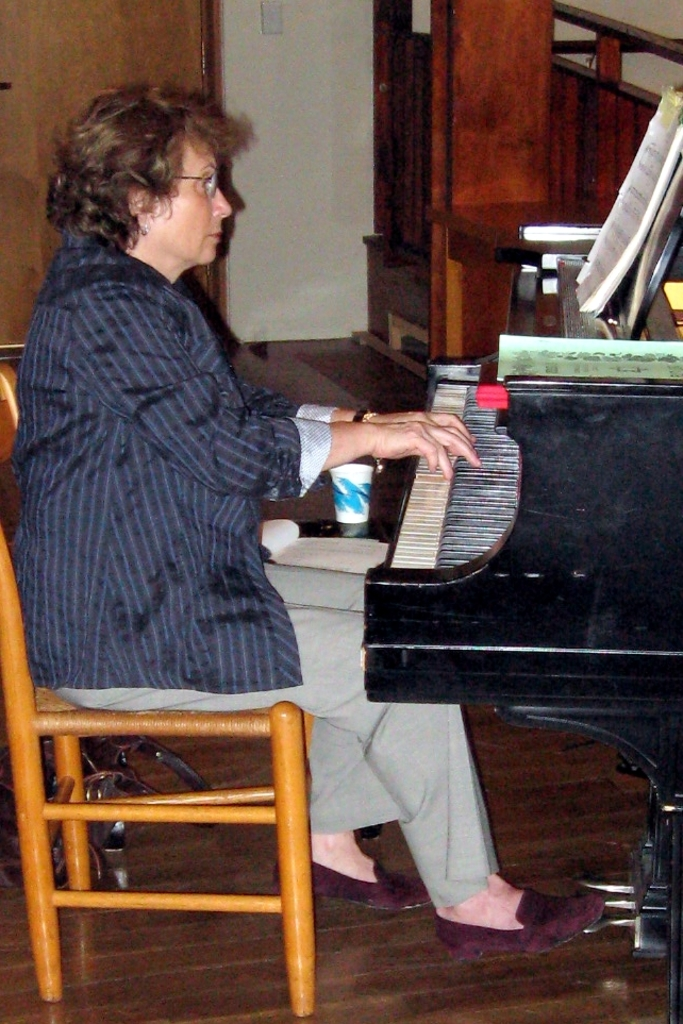Human_hand: (310, 399, 496, 486), (374, 407, 479, 444)
